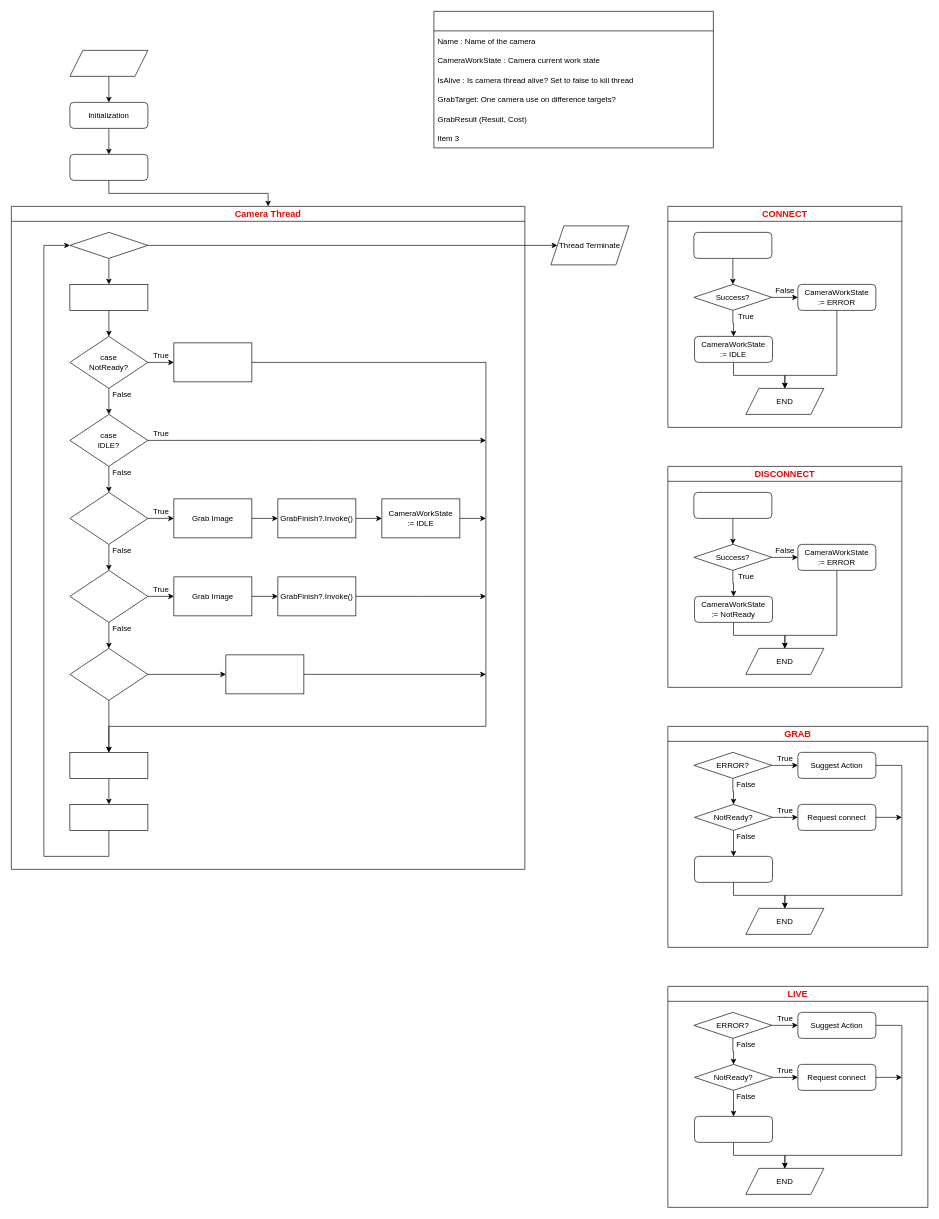
The diagram is 939 pixels wide and 1219 high, and some of its shapes have lost their labels. The box of each missing label's shape, as (x1, y1, x2, y2) in pixels:
Camera Connect: (693, 232, 772, 258)
Camera Disconnect: (693, 492, 772, 518)
CameraThread Start: (69, 154, 148, 180)
CameraWorkState := GRAB: (694, 856, 773, 882)
CameraWorkState := LIVE: (694, 1116, 773, 1142)
case ERROR?: (69, 648, 148, 700)
case GRAB?: (69, 492, 148, 544)
case LIVE?: (69, 570, 148, 622)
IsAlive?: (69, 232, 148, 258)
Properties: (433, 11, 713, 148)
Sleep(10): (173, 342, 252, 382)
Sleep(5): (69, 804, 148, 830)
START: (69, 50, 148, 76)
switch (CameraWorkState): (69, 284, 148, 310)
switch END: (69, 752, 148, 778)
TODO: Error Handle: (225, 654, 304, 694)
